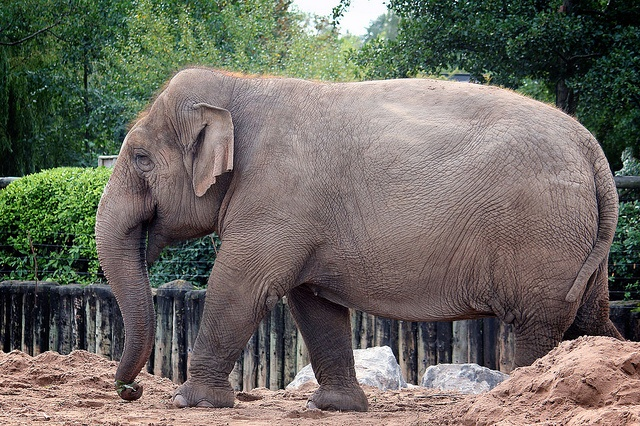elephant: (93, 64, 623, 411)
